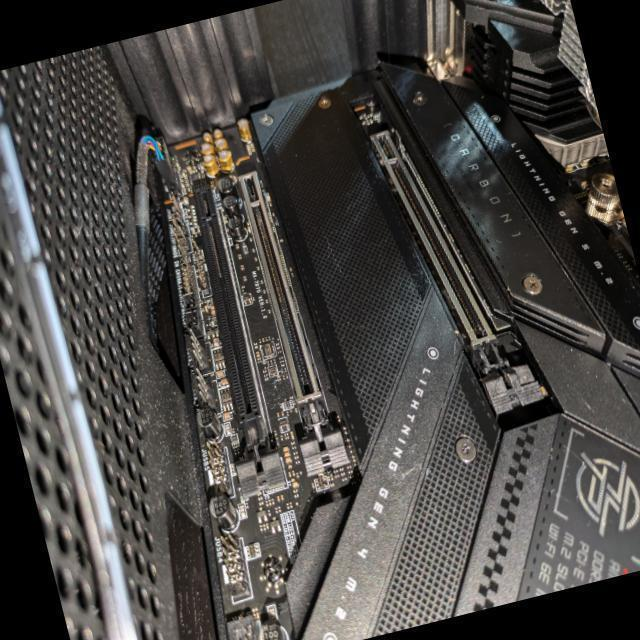Mainboard: (101, 40, 640, 640)
